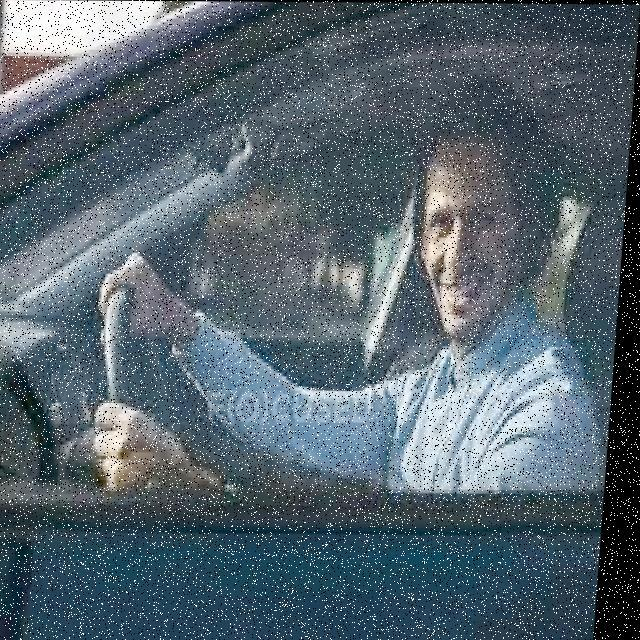noSeatbelt: (360, 284, 621, 491)
